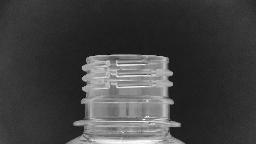No Cap: (70, 50, 184, 132)
